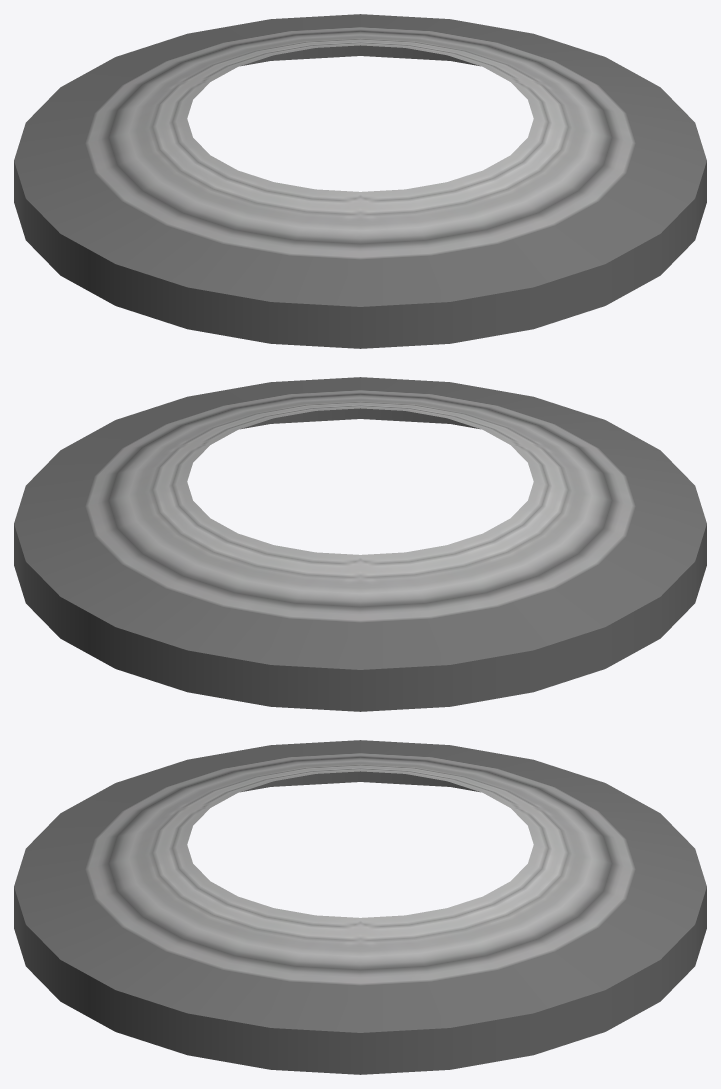
The model's file is vega_adapter_s1p5_s0p5_1.obj.
3 views of the same model, one above another, from view 1: azimuth 30°, elevation 25°; view 2: azimuth 150°, elevation 25°; view 3: azimuth 270°, elevation 25° (orthographic).
Visible parts, largest first — view 1: mesh1; view 2: mesh1; view 3: mesh1.
Boxes of the visible parts, x1=… form: mesh1: x1=14, y1=14, x2=706, y2=348; mesh1: x1=14, y1=377, x2=706, y2=711; mesh1: x1=14, y1=740, x2=706, y2=1074.
Bounding box in the file's own units: 1.88 × 0.25 × 1.88.
